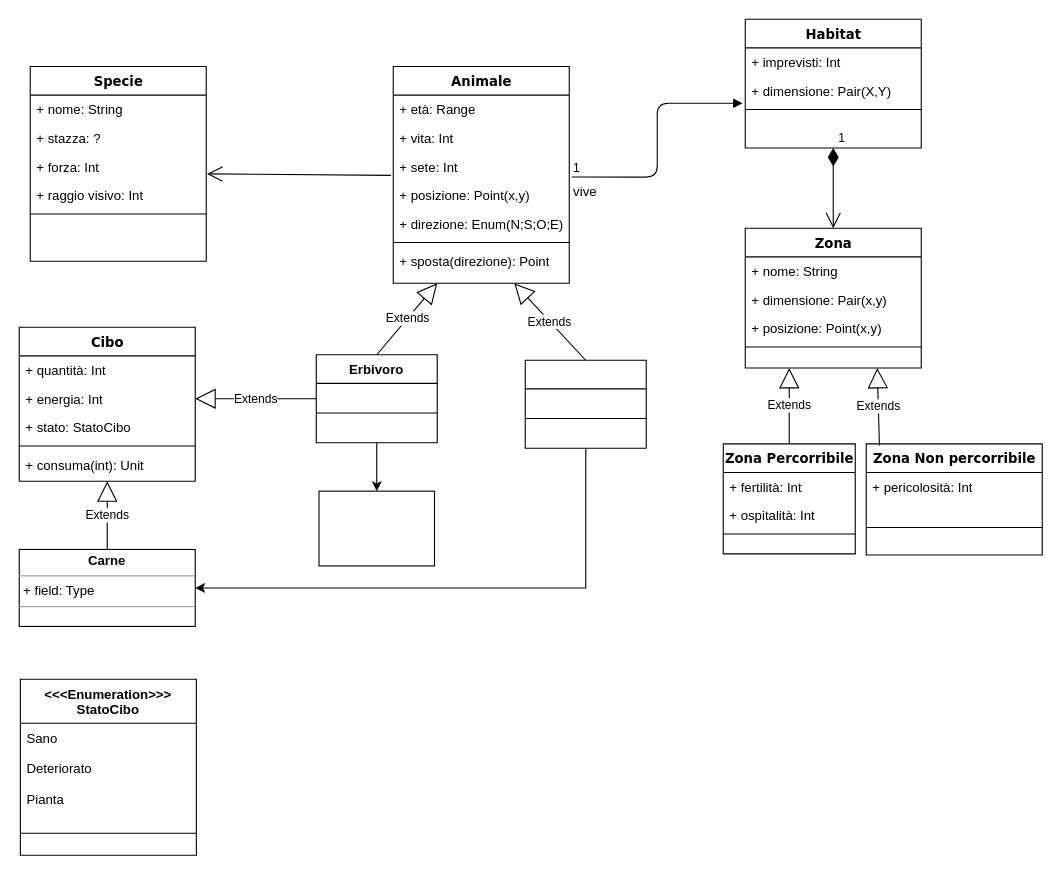
The diagram is 1062 pixels wide and 875 high, and some of its shapes have lost their labels. Each missing label, with the centre of its shape:
Carnivoro: pixel 585 403
Verdura + altezza: Int: pixel 376 528
